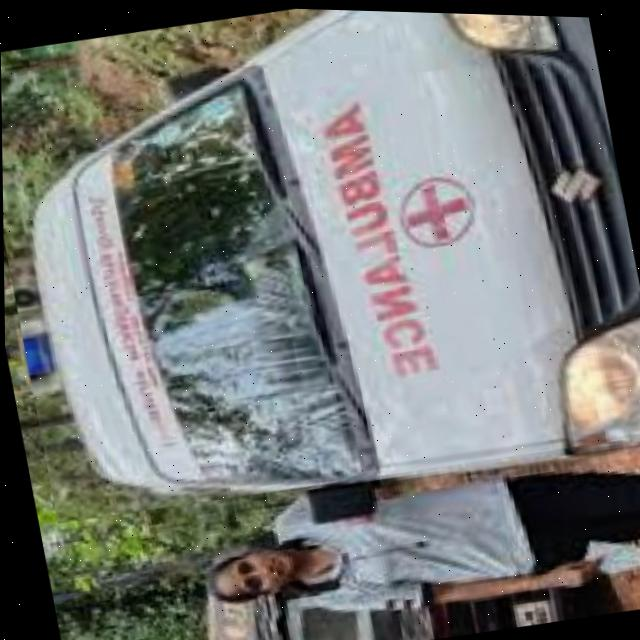Ambulance: (0, 0, 640, 536)
